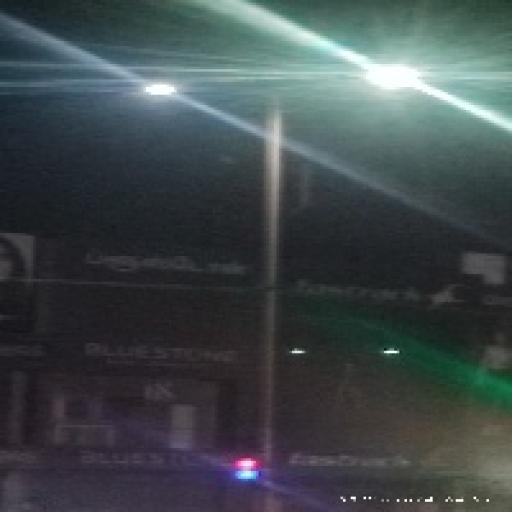Working: (344, 55, 436, 103), (129, 71, 194, 106)
